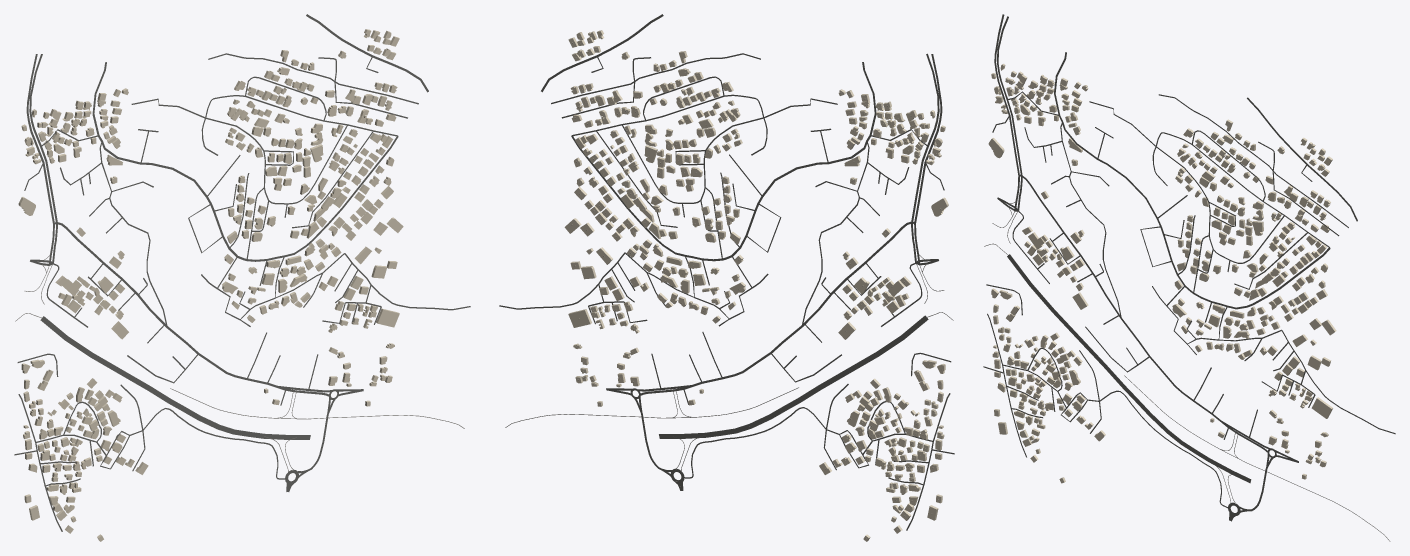
File: historic-palestine-10_33_3517_3279.glb
3 renders of one model, left to right at view 1: azimuth 30°, elevation 25°; view 2: azimuth 150°, elevation 25°; view 3: azimuth 330°, elevation 25°, orthographic. The views are drawn at different scales.
Visible parts, largest first — view 1: Road 79.001, Road .005, Road .004; view 2: Road 79.001, Road .005, Road .004; view 3: Road 79.001, Road .005, Road .004.
Boxes of the visible parts, box(x1,y1,x2,y2) form: Road 79.001: box(40, 316, 299, 439); Road .005: box(92, 62, 398, 261); Road .004: box(57, 222, 277, 387); Road 79.001: box(670, 315, 928, 438); Road .005: box(571, 62, 876, 261); Road .004: box(692, 221, 912, 386); Road 79.001: box(1007, 254, 1240, 478); Road .005: box(1054, 52, 1330, 309); Road .004: box(1022, 175, 1220, 421).
Bounding box in the file's own units: 1173 × 1237 × 8.7.
